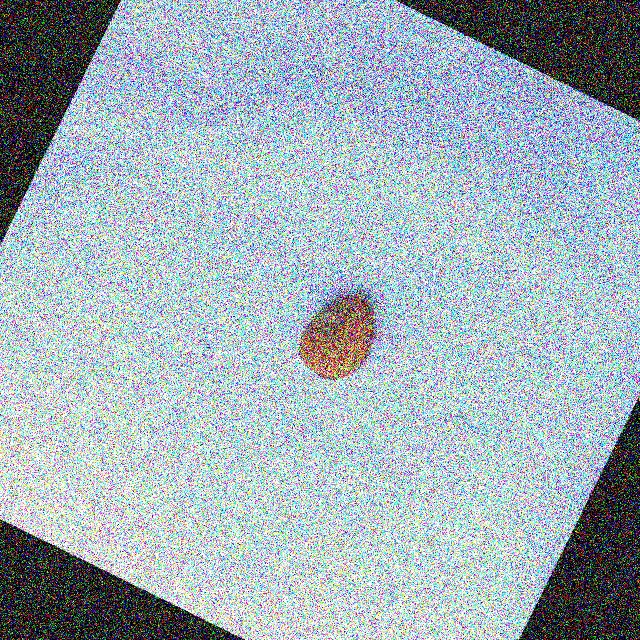grade3: (283, 275, 394, 397)
